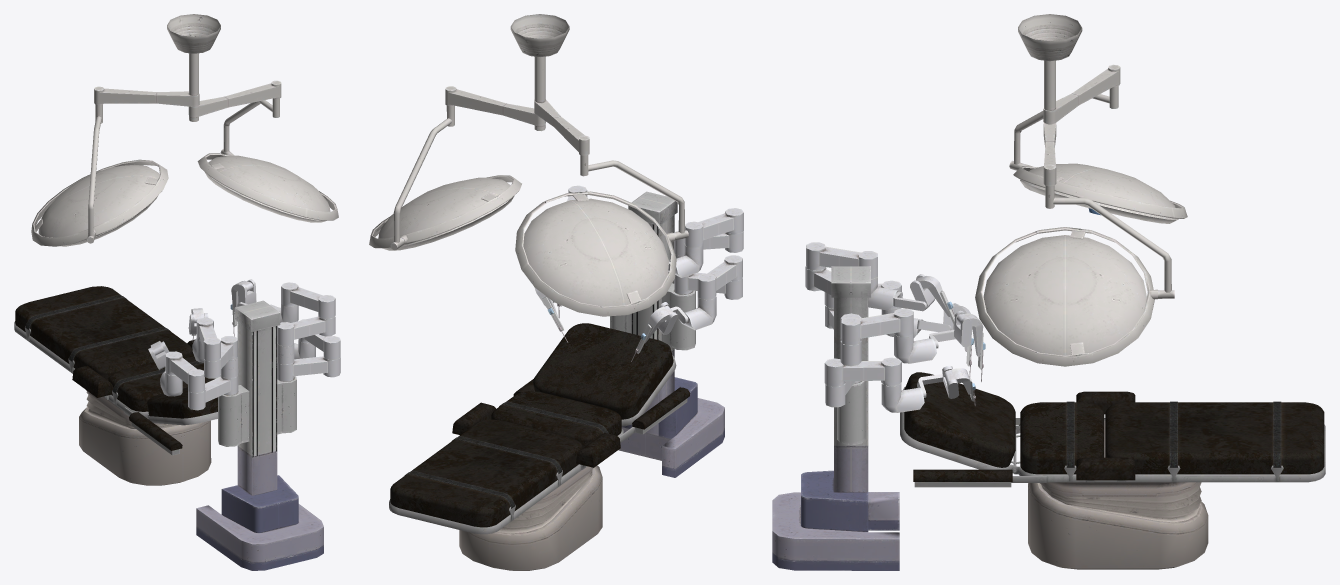
The model's file is sm23_027_medicalequipment01a.fbx.
3 views of the same model, side by side, from view 1: azimuth 30°, elevation 25°; view 2: azimuth 150°, elevation 25°; view 3: azimuth 270°, elevation 25° (orthographic). The views are drawn at different scales.
Visible parts, largest first — view 1: LOD_1_Group_146_Sub_2__sm23_027_MedicalEquipment01A_B_Mat, LOD_1_Group_146_Sub_1__sm23_027_MedicalEquipment01A_A_Mat; view 2: LOD_1_Group_146_Sub_2__sm23_027_MedicalEquipment01A_B_Mat, LOD_1_Group_146_Sub_1__sm23_027_MedicalEquipment01A_A_Mat; view 3: LOD_1_Group_146_Sub_2__sm23_027_MedicalEquipment01A_B_Mat, LOD_1_Group_146_Sub_1__sm23_027_MedicalEquipment01A_A_Mat.
Boxes of the visible parts, x1=… form: LOD_1_Group_146_Sub_2__sm23_027_MedicalEquipment01A_B_Mat: x1=31, y1=14, x2=340, y2=570; LOD_1_Group_146_Sub_1__sm23_027_MedicalEquipment01A_A_Mat: x1=14, y1=286, x2=217, y2=485; LOD_1_Group_146_Sub_2__sm23_027_MedicalEquipment01A_B_Mat: x1=369, y1=14, x2=743, y2=477; LOD_1_Group_146_Sub_1__sm23_027_MedicalEquipment01A_A_Mat: x1=389, y1=355, x2=690, y2=570; LOD_1_Group_146_Sub_2__sm23_027_MedicalEquipment01A_B_Mat: x1=772, y1=14, x2=1187, y2=570; LOD_1_Group_146_Sub_1__sm23_027_MedicalEquipment01A_A_Mat: x1=900, y1=387, x2=1325, y2=569.
Size of the model in its own units: 2.58 by 4.02 by 3.8.
